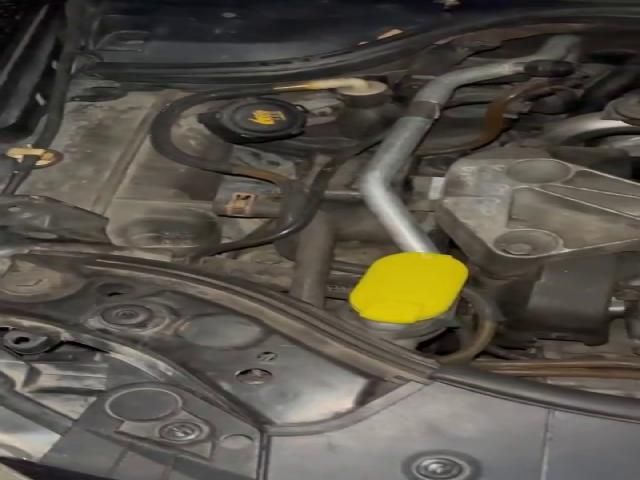antifreeze_tank: (18, 90, 232, 248), (172, 97, 307, 164)
